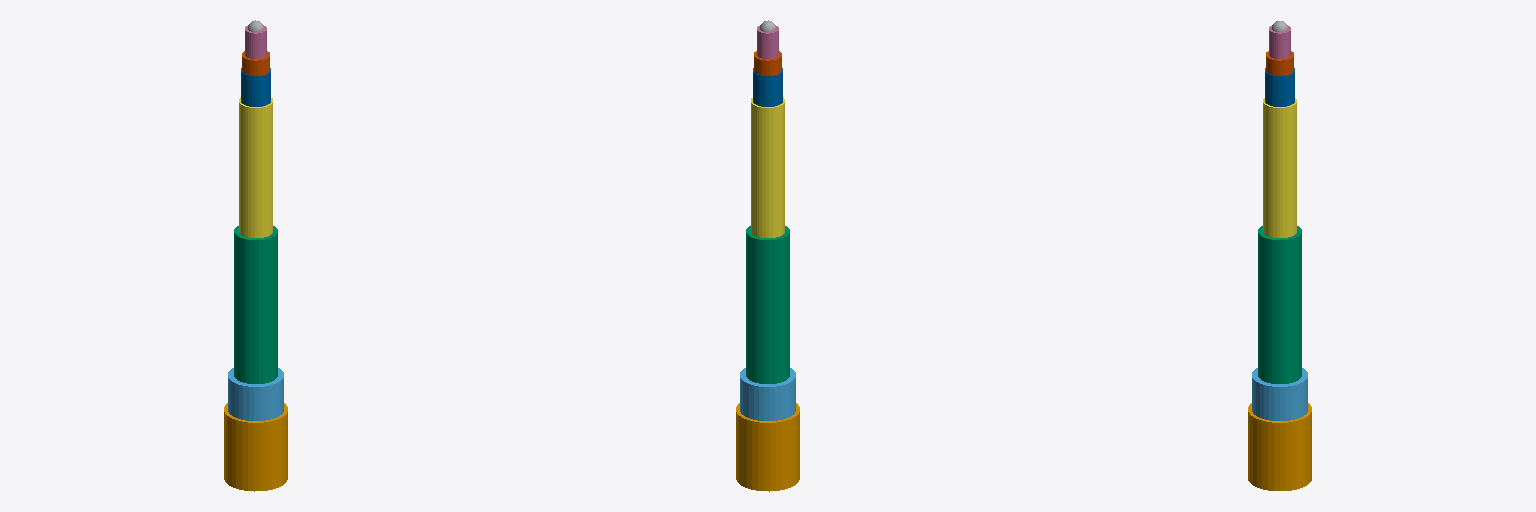
robot.urdf — arm6:
<?xml version="1.0"?>
<!--
  arm6 - a 6-DoF industrial-style arm with a SPHERICAL WRIST.

  "Spherical wrist" means the last three joint axes all pass through one
  point (here: the origin of wrist_2_link).  That single geometric choice is
  what lets an inverse-kinematics solver split the problem in two - position
  is decided by joints 1-3, orientation by joints 4-6 - and it is why almost
  every industrial arm is built this way.

  All joint origins are pure translations along the parent's z axis, which
  keeps the file readable.  Joint axes alternate z, y, y, z, y, z.

  Units: metres, radians, kilograms.  Angles in <origin rpy> are FIXED-axis
  roll-pitch-yaw, i.e. R = Rz(yaw) Ry(pitch) Rx(roll).
-->
<robot name="arm6">

  <link name="base_link">
    <inertial>
      <origin xyz="0 0 0.10"/>
      <mass value="4.0"/>
      <inertia ixx="0.03" ixy="0" ixz="0" iyy="0.03" iyz="0" izz="0.02"/>
    </inertial>
    <visual>
      <origin xyz="0 0 0.10"/>
      <geometry><cylinder radius="0.085" length="0.20"/></geometry>
    </visual>
  </link>

  <link name="shoulder_link">
    <inertial>
      <origin xyz="0 0 0.05"/>
      <mass value="3.0"/>
      <inertia ixx="0.02" ixy="0" ixz="0" iyy="0.02" iyz="0" izz="0.01"/>
    </inertial>
    <visual>
      <origin xyz="0 0 0.05"/>
      <geometry><cylinder radius="0.075" length="0.10"/></geometry>
    </visual>
  </link>

  <link name="upper_arm_link">
    <inertial>
      <origin xyz="0 0 0.21"/>
      <mass value="6.0"/>
      <inertia ixx="0.10" ixy="0" ixz="0" iyy="0.10" iyz="0" izz="0.01"/>
    </inertial>
    <visual>
      <origin xyz="0 0 0.21"/>
      <geometry><cylinder radius="0.058" length="0.42"/></geometry>
    </visual>
  </link>

  <link name="forearm_link">
    <inertial>
      <origin xyz="0 0 0.19"/>
      <mass value="3.5"/>
      <inertia ixx="0.05" ixy="0" ixz="0" iyy="0.05" iyz="0" izz="0.005"/>
    </inertial>
    <visual>
      <origin xyz="0 0 0.19"/>
      <geometry><cylinder radius="0.046" length="0.38"/></geometry>
    </visual>
  </link>

  <link name="wrist_1_link">
    <inertial>
      <origin xyz="0 0 0.045"/>
      <mass value="1.2"/>
      <inertia ixx="0.004" ixy="0" ixz="0" iyy="0.004" iyz="0" izz="0.003"/>
    </inertial>
    <visual>
      <origin xyz="0 0 0.045"/>
      <geometry><cylinder radius="0.040" length="0.09"/></geometry>
    </visual>
  </link>

  <link name="wrist_2_link">
    <inertial>
      <origin xyz="0 0 0.02"/>
      <mass value="0.9"/>
      <inertia ixx="0.002" ixy="0" ixz="0" iyy="0.002" iyz="0" izz="0.002"/>
    </inertial>
    <visual>
      <origin xyz="0 0 0.02"/>
      <geometry><cylinder radius="0.038" length="0.05"/></geometry>
    </visual>
  </link>

  <link name="wrist_3_link">
    <inertial>
      <origin xyz="0 0 0.06"/>
      <mass value="0.5"/>
      <inertia ixx="0.001" ixy="0" ixz="0" iyy="0.001" iyz="0" izz="0.001"/>
    </inertial>
    <visual>
      <origin xyz="0 0 0.06"/>
      <geometry><cylinder radius="0.030" length="0.12"/></geometry>
    </visual>
  </link>

  <!-- The tool frame: where the gripper actually touches the world.  It is a
       FIXED joint, so it adds no degree of freedom - it only renames a point. -->
  <link name="tool0">
    <inertial>
      <origin xyz="0 0 0"/>
      <mass value="0.1"/>
      <inertia ixx="0.0001" ixy="0" ixz="0" iyy="0.0001" iyz="0" izz="0.0001"/>
    </inertial>
    <visual>
      <origin xyz="0 0 0"/>
      <geometry><sphere radius="0.022"/></geometry>
    </visual>
  </link>

  <joint name="shoulder_pan" type="revolute">
    <parent link="base_link"/>
    <child link="shoulder_link"/>
    <origin xyz="0 0 0.20" rpy="0 0 0"/>
    <axis xyz="0 0 1"/>
    <limit lower="-2.90" upper="2.90" effort="150" velocity="3.0"/>
  </joint>

  <joint name="shoulder_lift" type="revolute">
    <parent link="shoulder_link"/>
    <child link="upper_arm_link"/>
    <origin xyz="0 0 0.10" rpy="0 0 0"/>
    <axis xyz="0 1 0"/>
    <limit lower="-2.60" upper="2.60" effort="150" velocity="3.0"/>
  </joint>

  <joint name="elbow" type="revolute">
    <parent link="upper_arm_link"/>
    <child link="forearm_link"/>
    <origin xyz="0 0 0.42" rpy="0 0 0"/>
    <axis xyz="0 1 0"/>
    <limit lower="-2.80" upper="2.80" effort="120" velocity="3.2"/>
  </joint>

  <joint name="wrist_1" type="revolute">
    <parent link="forearm_link"/>
    <child link="wrist_1_link"/>
    <origin xyz="0 0 0.38" rpy="0 0 0"/>
    <axis xyz="0 0 1"/>
    <limit lower="-3.00" upper="3.00" effort="40" velocity="3.2"/>
  </joint>

  <joint name="wrist_2" type="revolute">
    <parent link="wrist_1_link"/>
    <child link="wrist_2_link"/>
    <origin xyz="0 0 0.09" rpy="0 0 0"/>
    <axis xyz="0 1 0"/>
    <limit lower="-2.00" upper="2.00" effort="40" velocity="3.2"/>
  </joint>

  <!-- Zero offset: wrist_3 shares its origin with wrist_2, so axes 4, 5 and 6
       all meet at one point.  THAT is the spherical wrist. -->
  <joint name="wrist_3" type="revolute">
    <parent link="wrist_2_link"/>
    <child link="wrist_3_link"/>
    <origin xyz="0 0 0" rpy="0 0 0"/>
    <axis xyz="0 0 1"/>
    <limit lower="-3.00" upper="3.00" effort="40" velocity="3.2"/>
  </joint>

  <joint name="tool_fixed" type="fixed">
    <parent link="wrist_3_link"/>
    <child link="tool0"/>
    <origin xyz="0 0 0.12" rpy="0 0 0"/>
  </joint>

</robot>

--- Render facts (derived) ---
Views: 3 orthographic renders of the robot side by side, from view 1: azimuth 30°, elevation 25°; view 2: azimuth 150°, elevation 25°; view 3: azimuth 270°, elevation 25°.
Model arm6 with 8 links and 7 joints (6 revolute, 1 fixed), rooted at base_link, posed all joints at 0.
Visible links, largest first — view 1: upper_arm_link, base_link, forearm_link, shoulder_link, wrist_1_link, wrist_3_link; view 2: upper_arm_link, base_link, forearm_link, shoulder_link, wrist_1_link, wrist_3_link; view 3: upper_arm_link, base_link, forearm_link, shoulder_link, wrist_1_link, wrist_3_link.
Link boxes in pixels (left/top/right/bottom): upper_arm_link: left=234, top=226, right=277, bottom=383; base_link: left=224, top=403, right=287, bottom=491; forearm_link: left=239, top=97, right=272, bottom=237; shoulder_link: left=228, top=368, right=283, bottom=420; wrist_1_link: left=241, top=68, right=270, bottom=106; wrist_3_link: left=245, top=26, right=266, bottom=58; upper_arm_link: left=746, top=226, right=789, bottom=383; base_link: left=736, top=403, right=799, bottom=491; forearm_link: left=751, top=97, right=784, bottom=237; shoulder_link: left=740, top=368, right=795, bottom=420; wrist_1_link: left=753, top=68, right=782, bottom=106; wrist_3_link: left=757, top=26, right=778, bottom=58; upper_arm_link: left=1258, top=226, right=1301, bottom=383; base_link: left=1248, top=403, right=1311, bottom=490; forearm_link: left=1263, top=98, right=1296, bottom=237; shoulder_link: left=1252, top=368, right=1307, bottom=420; wrist_1_link: left=1265, top=68, right=1294, bottom=106; wrist_3_link: left=1269, top=26, right=1290, bottom=58.
Bounding box of the posed robot: 0.17 × 0.17 × 1.33 m (x, y, z).
Geometry: primitives only (box / cylinder / sphere), no mesh files.
